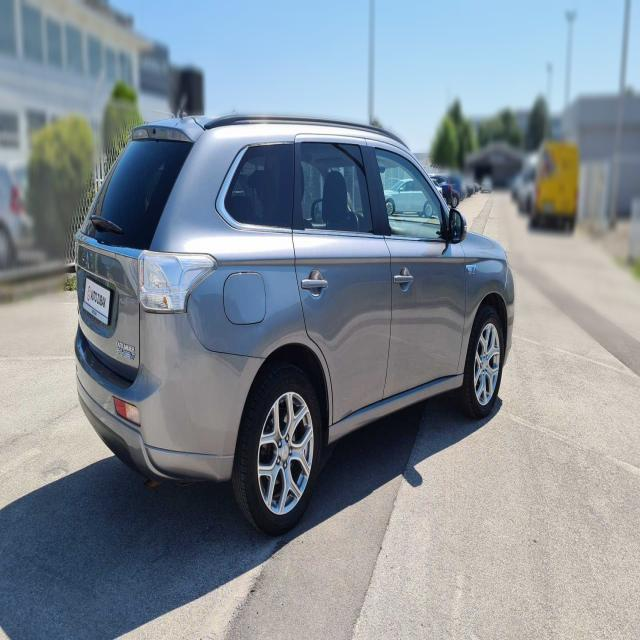light_vehicle: (73, 113, 516, 537)
